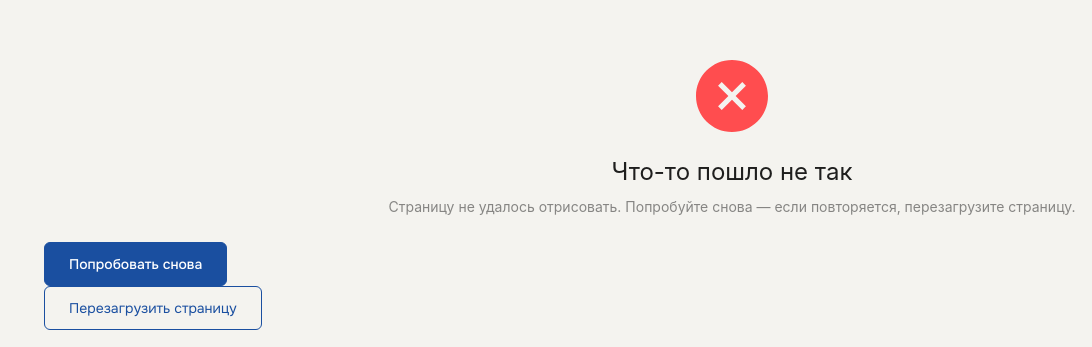
Test: ErrorBoundary › кнопка «Попробовать снова» поднимает поддерево заново
Click the button "Попробовать снова" at (136, 264), box [44, 242, 227, 286]
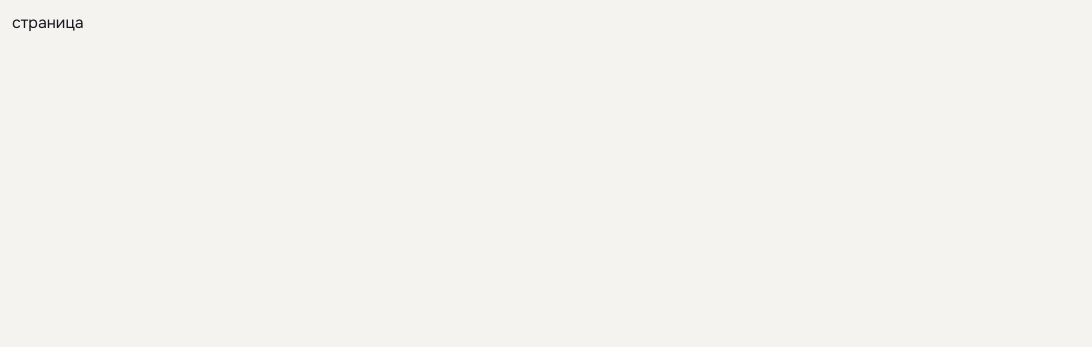
Now the text "страница" is shown, box [12, 12, 84, 33]
